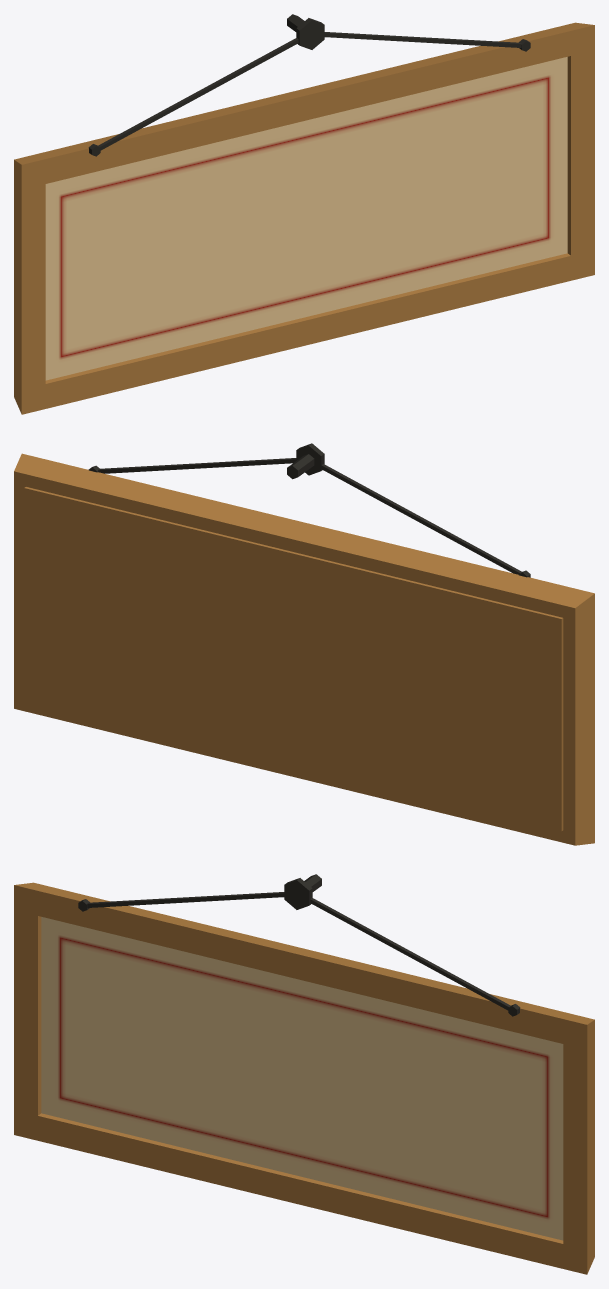
File: SM_Sign_Blank_Wood_01.fbx
3 renders of one model, top to bottom at view 1: azimuth 30°, elevation 25°; view 2: azimuth 150°, elevation 25°; view 3: azimuth 330°, elevation 25°, orthographic.
Visible parts, largest first — view 1: SM_Sign_Blank_Wood_01; view 2: SM_Sign_Blank_Wood_01; view 3: SM_Sign_Blank_Wood_01.
Boxes of the visible parts, x1=… form: SM_Sign_Blank_Wood_01: x1=14, y1=14, x2=594, y2=414; SM_Sign_Blank_Wood_01: x1=14, y1=443, x2=594, y2=845; SM_Sign_Blank_Wood_01: x1=14, y1=874, x2=594, y2=1274.
Size of the model in its own units: 0.96 by 0.524 by 0.0568.
Materials: 1 (1 with a texture image).
